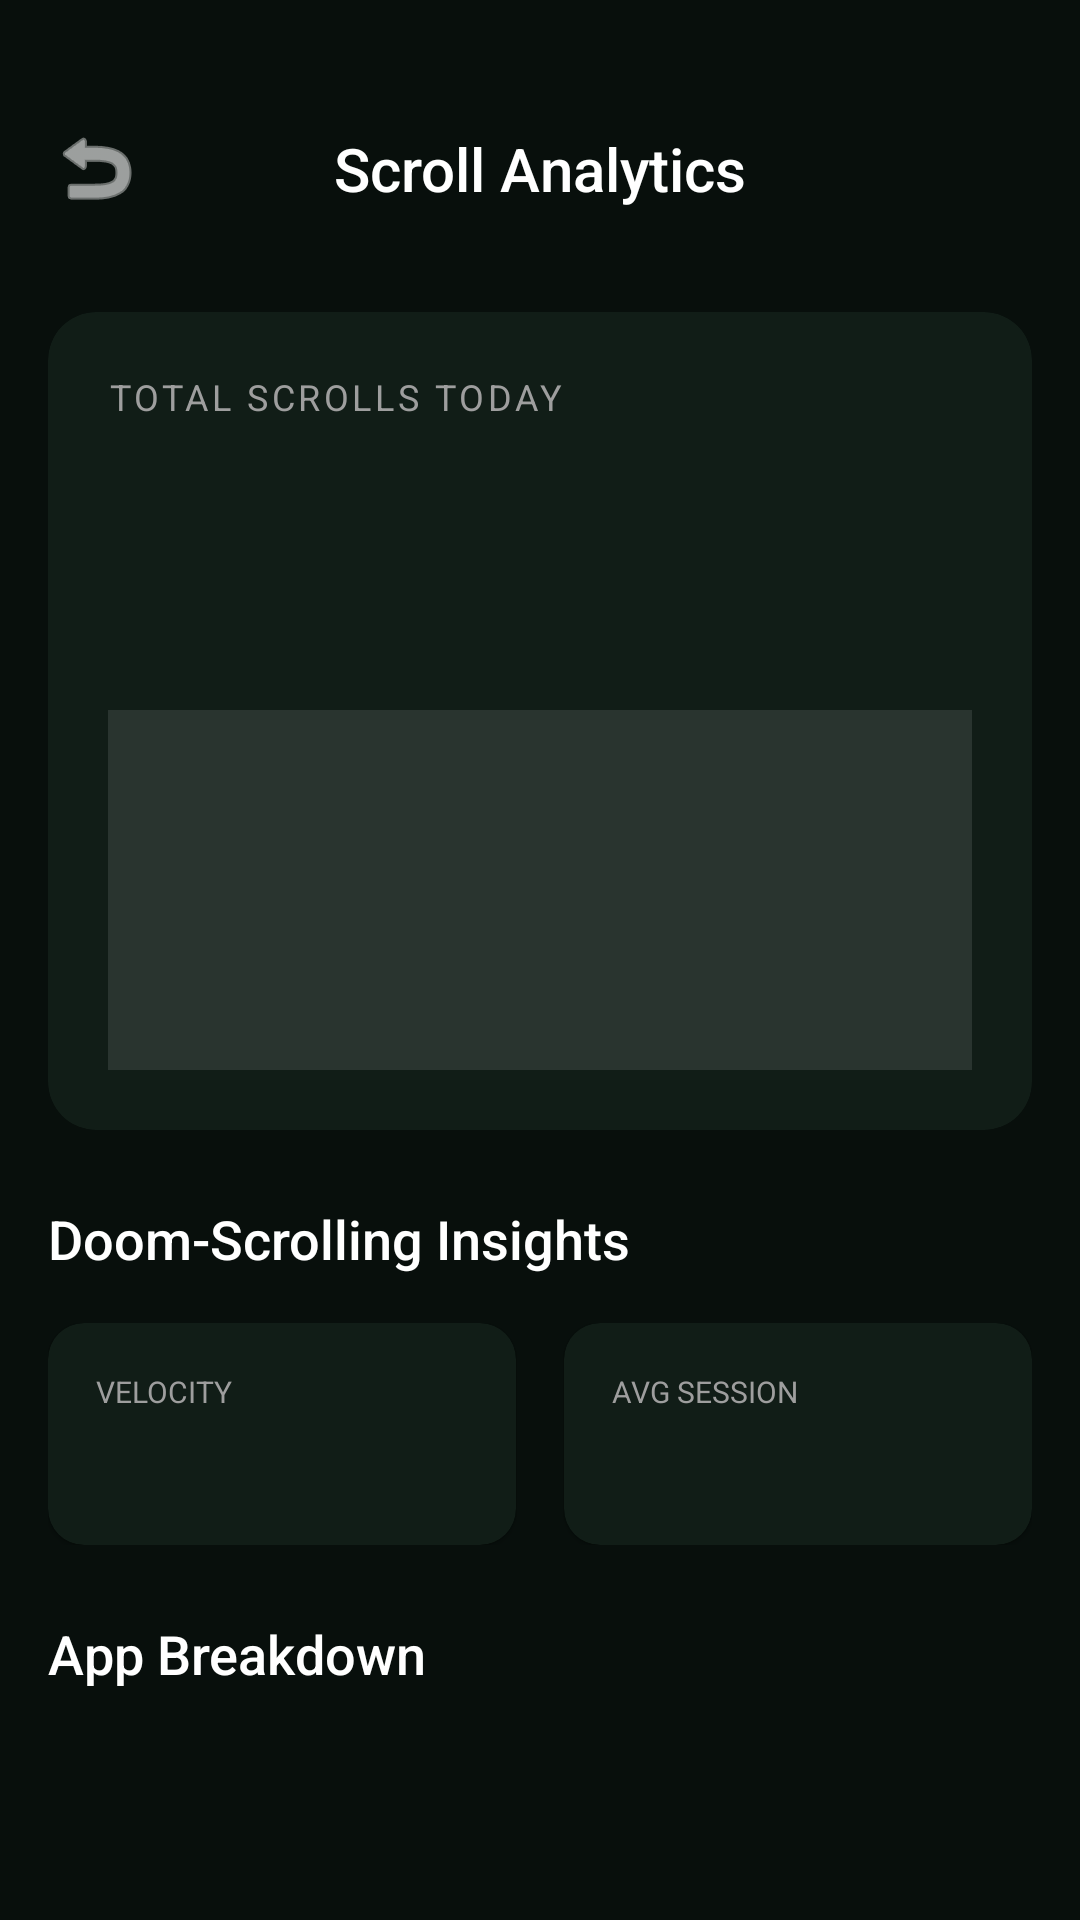

Named icons in this screenshot (1080w x 1920h) and their bounding boxes, (x1, y1, x2, y2):
Back: (63, 137, 132, 200)
